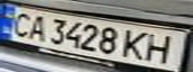2: (78, 21, 103, 53)
3: (45, 16, 69, 46)
4: (63, 19, 84, 49)
8: (96, 25, 124, 56)
A: (21, 12, 51, 43)
C: (3, 9, 36, 38)
H: (139, 32, 181, 65)
K: (118, 28, 154, 61)
